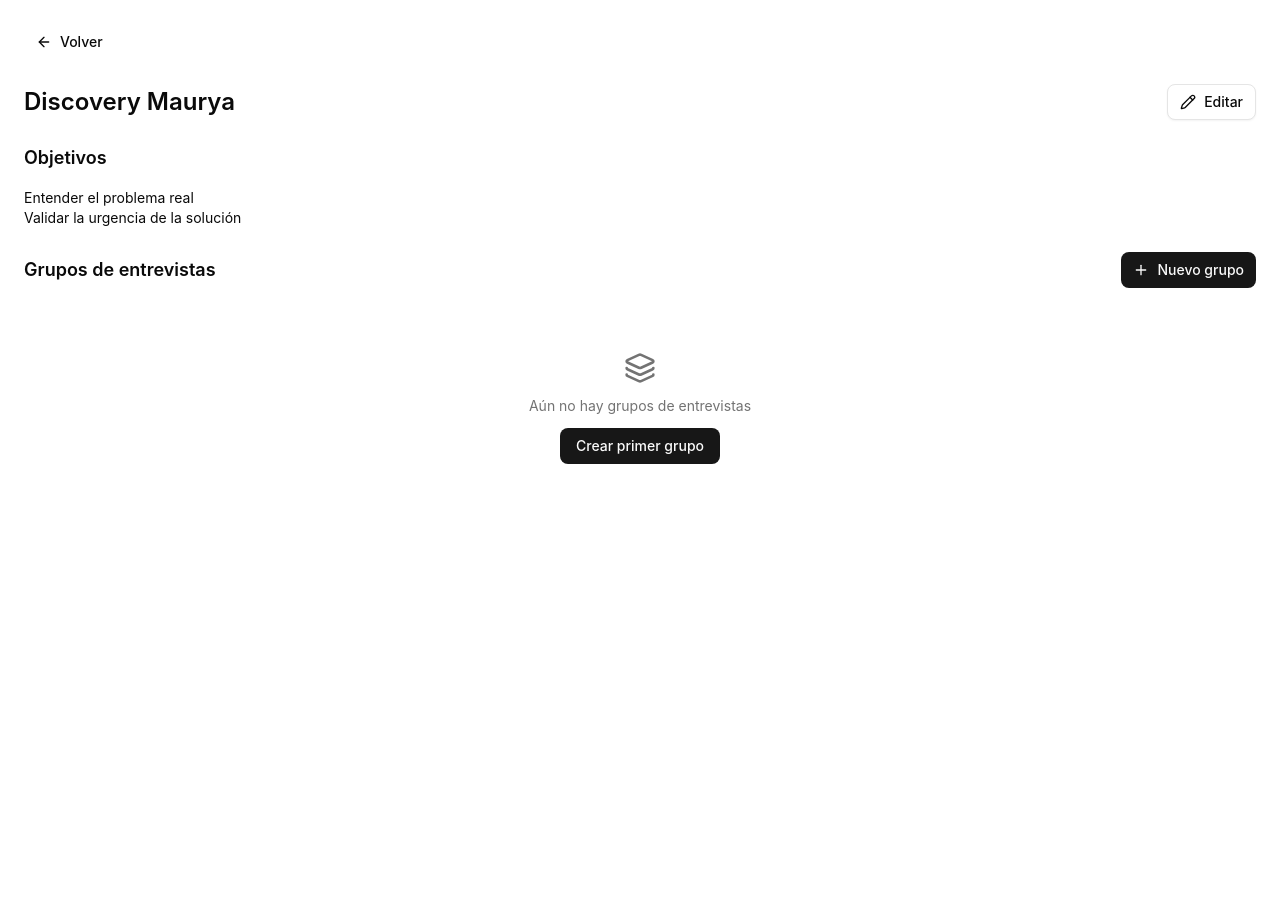
Test: DiscoveryDetailPage › objectives section (SPEC-045) › opens the preloaded discovery dialog from the header "Editar" and reflects the saved changes with the toast
The width and height of the screenshot is (1280, 900).
Expected: the heading "Discovery Maurya" is shown, x1=24 y1=86 x2=235 y2=118
Click the button "Editar".
click(1212, 102)  # box x1=1167 y1=84 x2=1256 y2=120
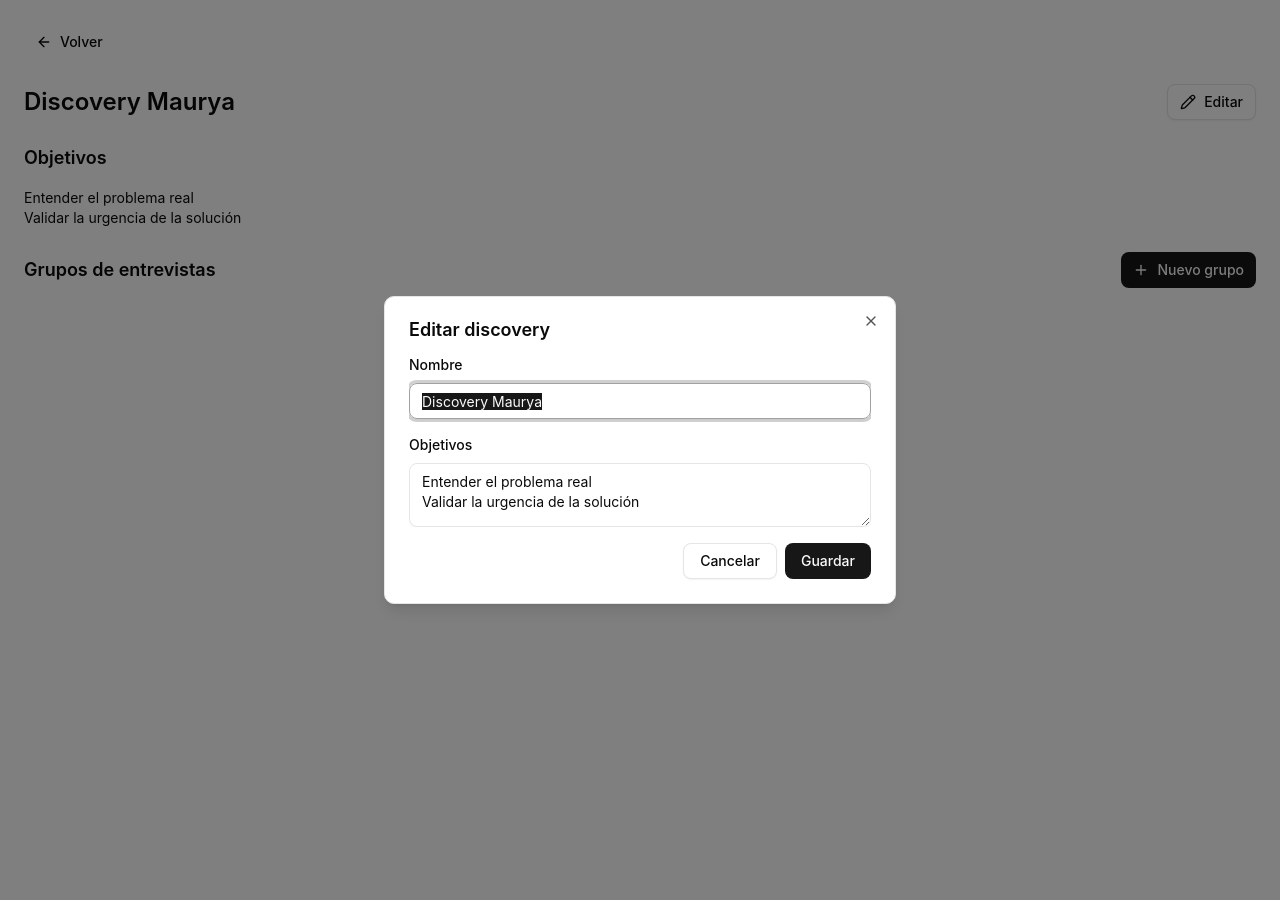
Result: the heading "Editar discovery" is shown at x1=409 y1=319 x2=550 y2=340
Result: the field labelled "Nombre" holds "Discovery Maurya" at x1=409 y1=383 x2=871 y2=419
Replace the text in the text box labelled "Objetivos" with "Objetivos revisados tras la primera ronda" at (640, 495), box x1=409 y1=463 x2=871 y2=527
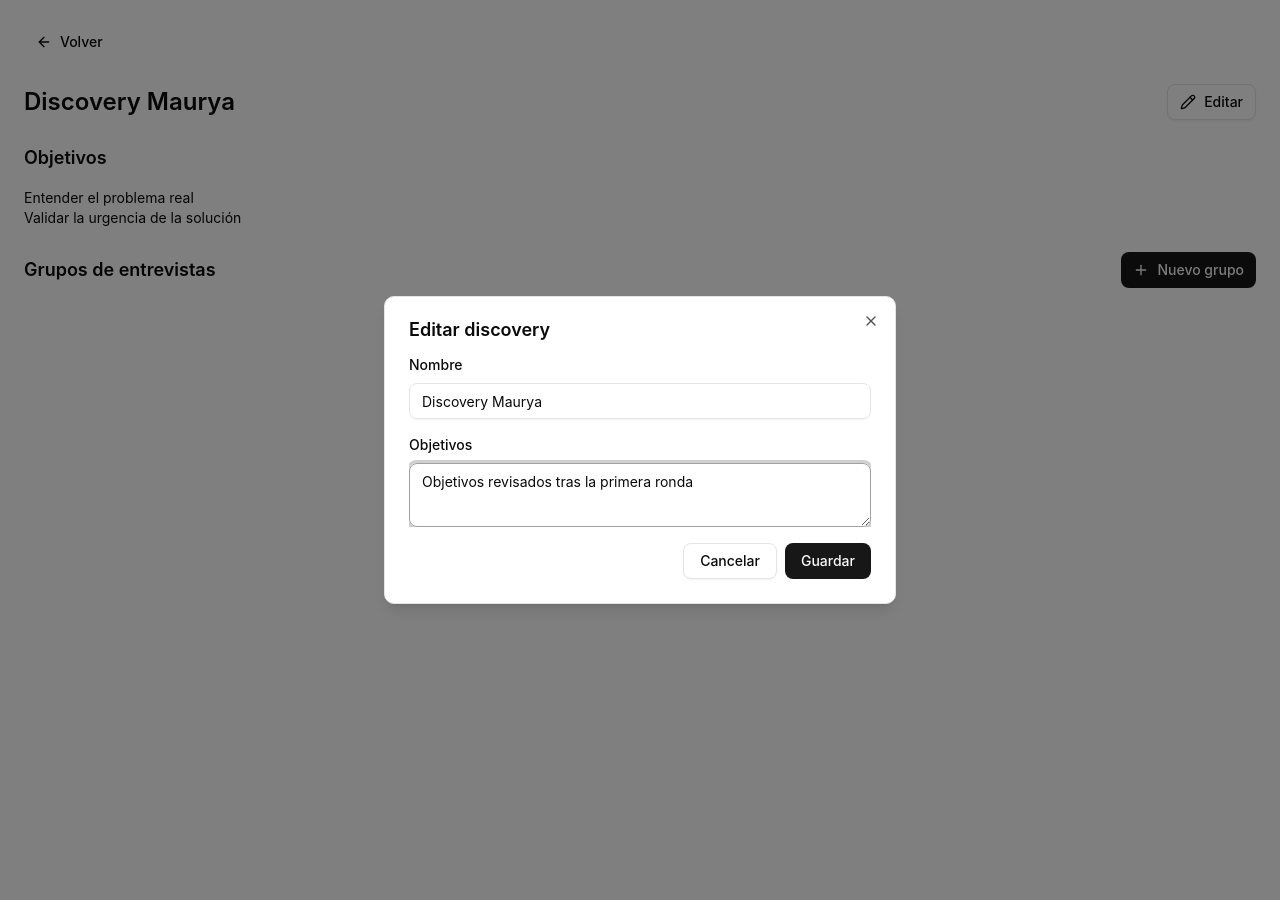
Click the button "Guardar".
click(828, 561)  # box x1=785 y1=543 x2=871 y2=579
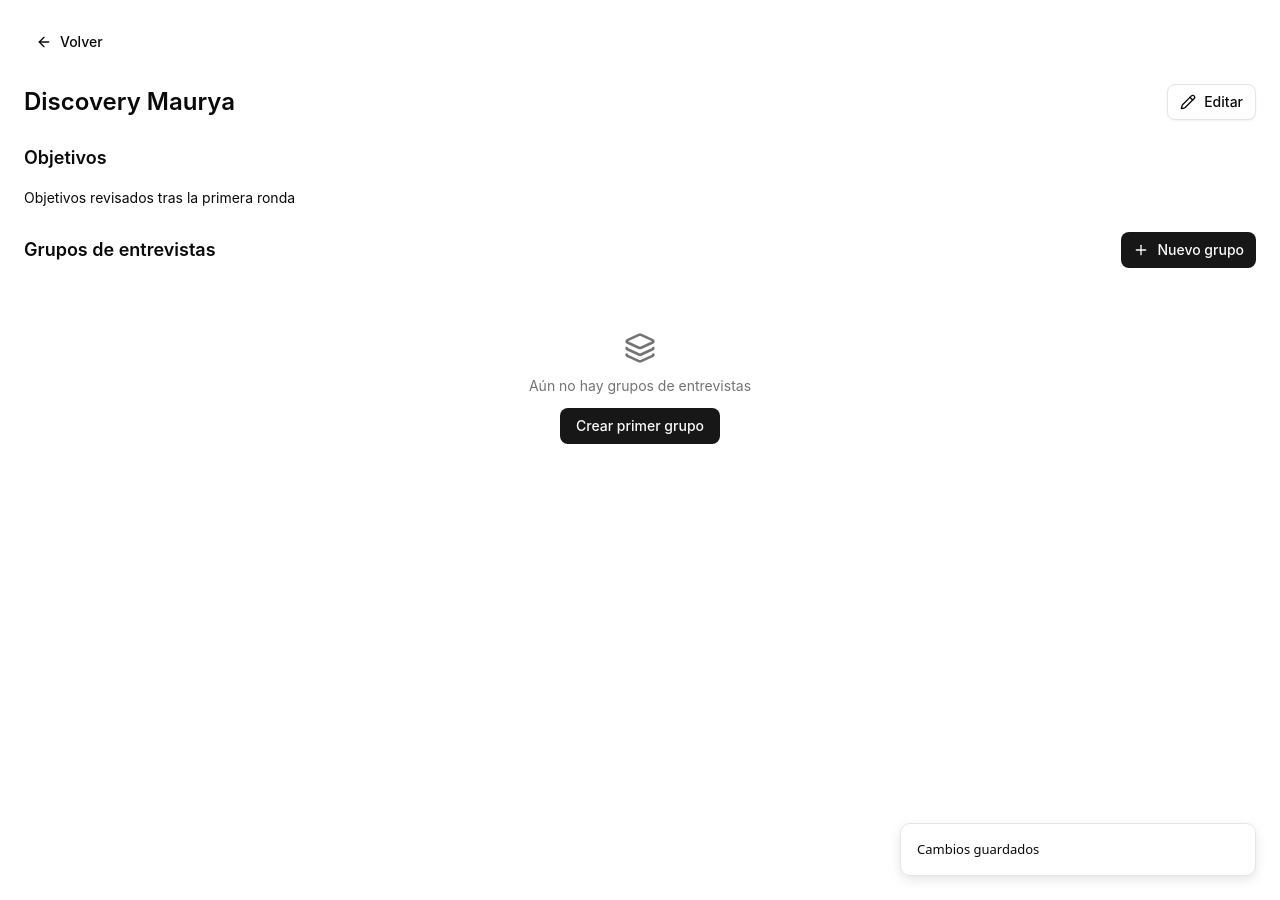
Result: the dialog is gone
Result: the text with test id "discovery-objectives" reads "Objetivos revisados tras la primera ronda" at x1=24 y1=189 x2=295 y2=206
